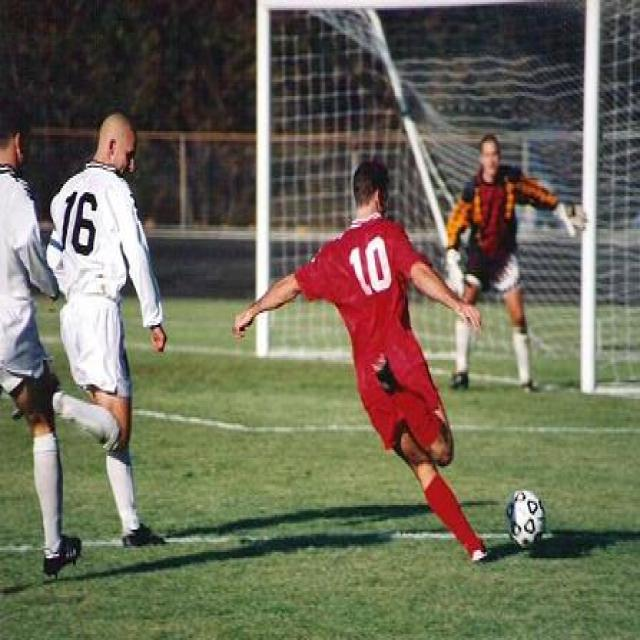soccer ball: (508, 489, 544, 548)
